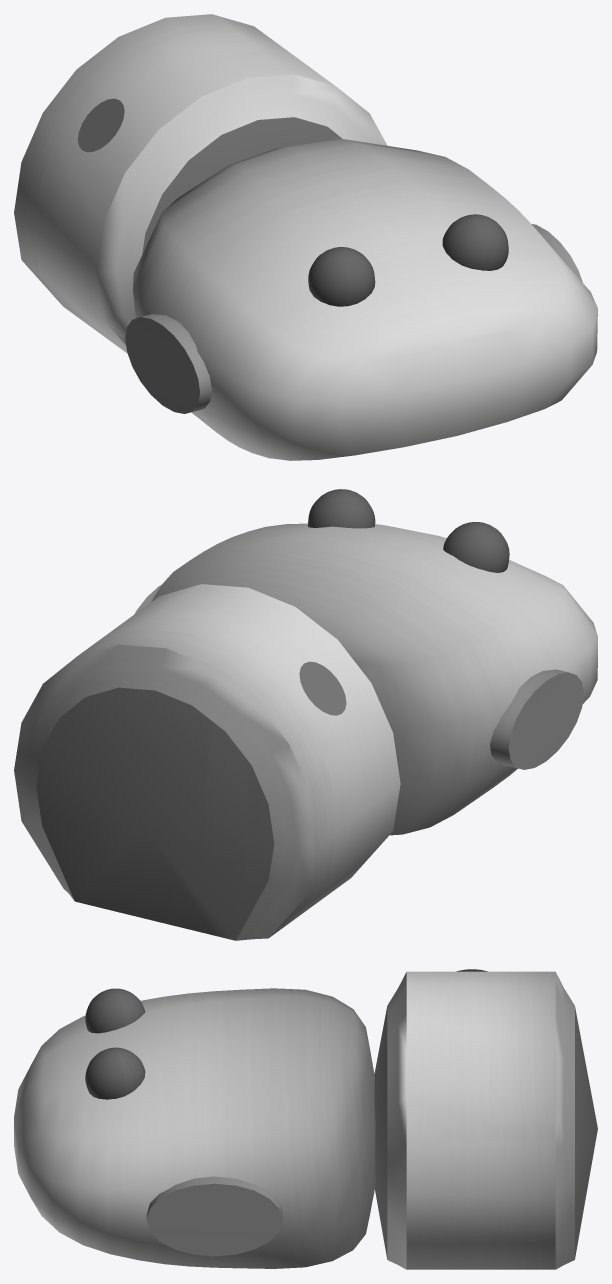
The model's file is Snake1(Variation).fbx.
3 views of the same model, one above another, from view 1: azimuth 30°, elevation 25°; view 2: azimuth 150°, elevation 25°; view 3: azimuth 270°, elevation 25° (orthographic). The views are drawn at different scales.
Visible parts, largest first — view 1: pSphere4, pCylinder18; view 2: pCylinder18, pSphere4; view 3: pSphere4, pCylinder18.
Part boxes in pixels (<box>): pSphere4: <box>125,138,597,460</box>; pCylinder18: <box>14,14,387,353</box>; pCylinder18: <box>14,584,400,940</box>; pSphere4: <box>134,489,597,835</box>; pSphere4: <box>14,988,375,1268</box>; pCylinder18: <box>374,969,597,1269</box>.
Size of the model in its own units: 163 by 107 by 236.
1 material, 1 textured.
